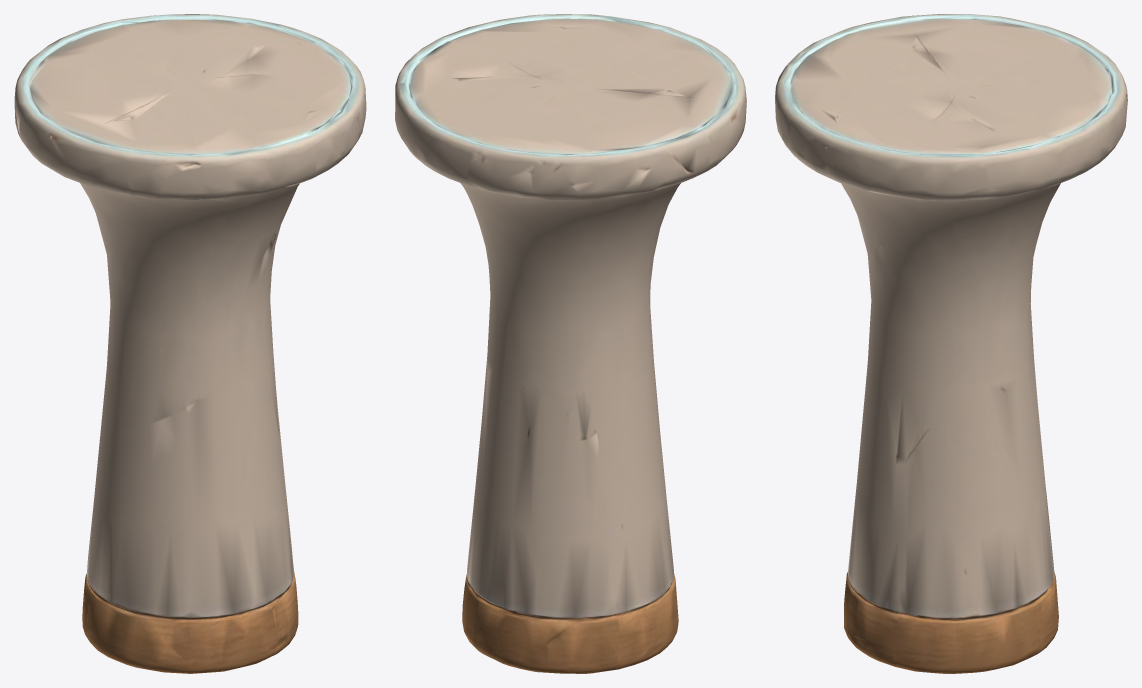
File: plinth.low.glb
The picture shows the model from 3 angles, left to right: view 1: azimuth 30°, elevation 25°; view 2: azimuth 150°, elevation 25°; view 3: azimuth 270°, elevation 25°; orthographic projection.
Parts seen in each view (by area): view 1: tripo_node_3f8d8bd0-45ca-4649-9d94-56b4f829f990; view 2: tripo_node_3f8d8bd0-45ca-4649-9d94-56b4f829f990; view 3: tripo_node_3f8d8bd0-45ca-4649-9d94-56b4f829f990.
Boxes of the visible parts, bbox=[...] form: tripo_node_3f8d8bd0-45ca-4649-9d94-56b4f829f990: bbox=[14, 14, 366, 673]; tripo_node_3f8d8bd0-45ca-4649-9d94-56b4f829f990: bbox=[395, 14, 746, 673]; tripo_node_3f8d8bd0-45ca-4649-9d94-56b4f829f990: bbox=[775, 14, 1127, 673].
Bounding box in the file's own units: 0.5797 × 0.9898 × 0.5791.
Materials: 1 (1 with a texture image).
